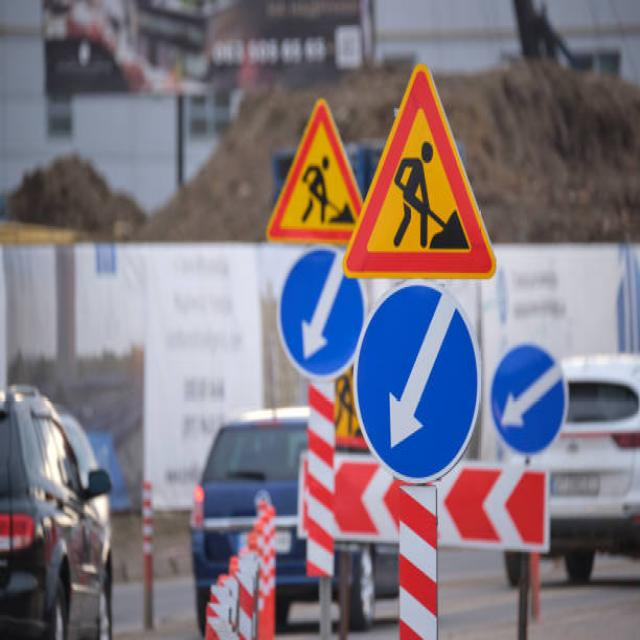road_work: (350, 62, 497, 280), (263, 91, 365, 246)
